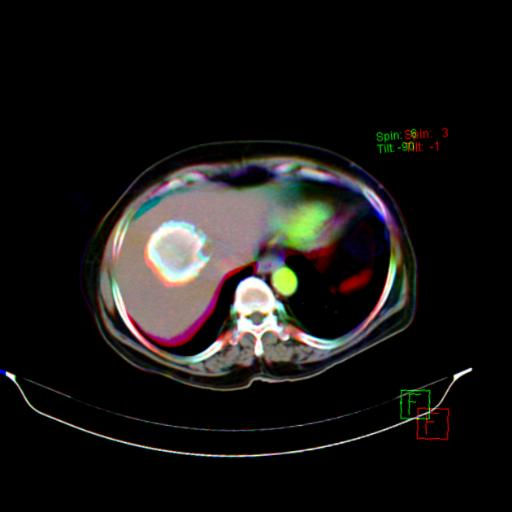Cyst: (144, 220, 209, 286)
